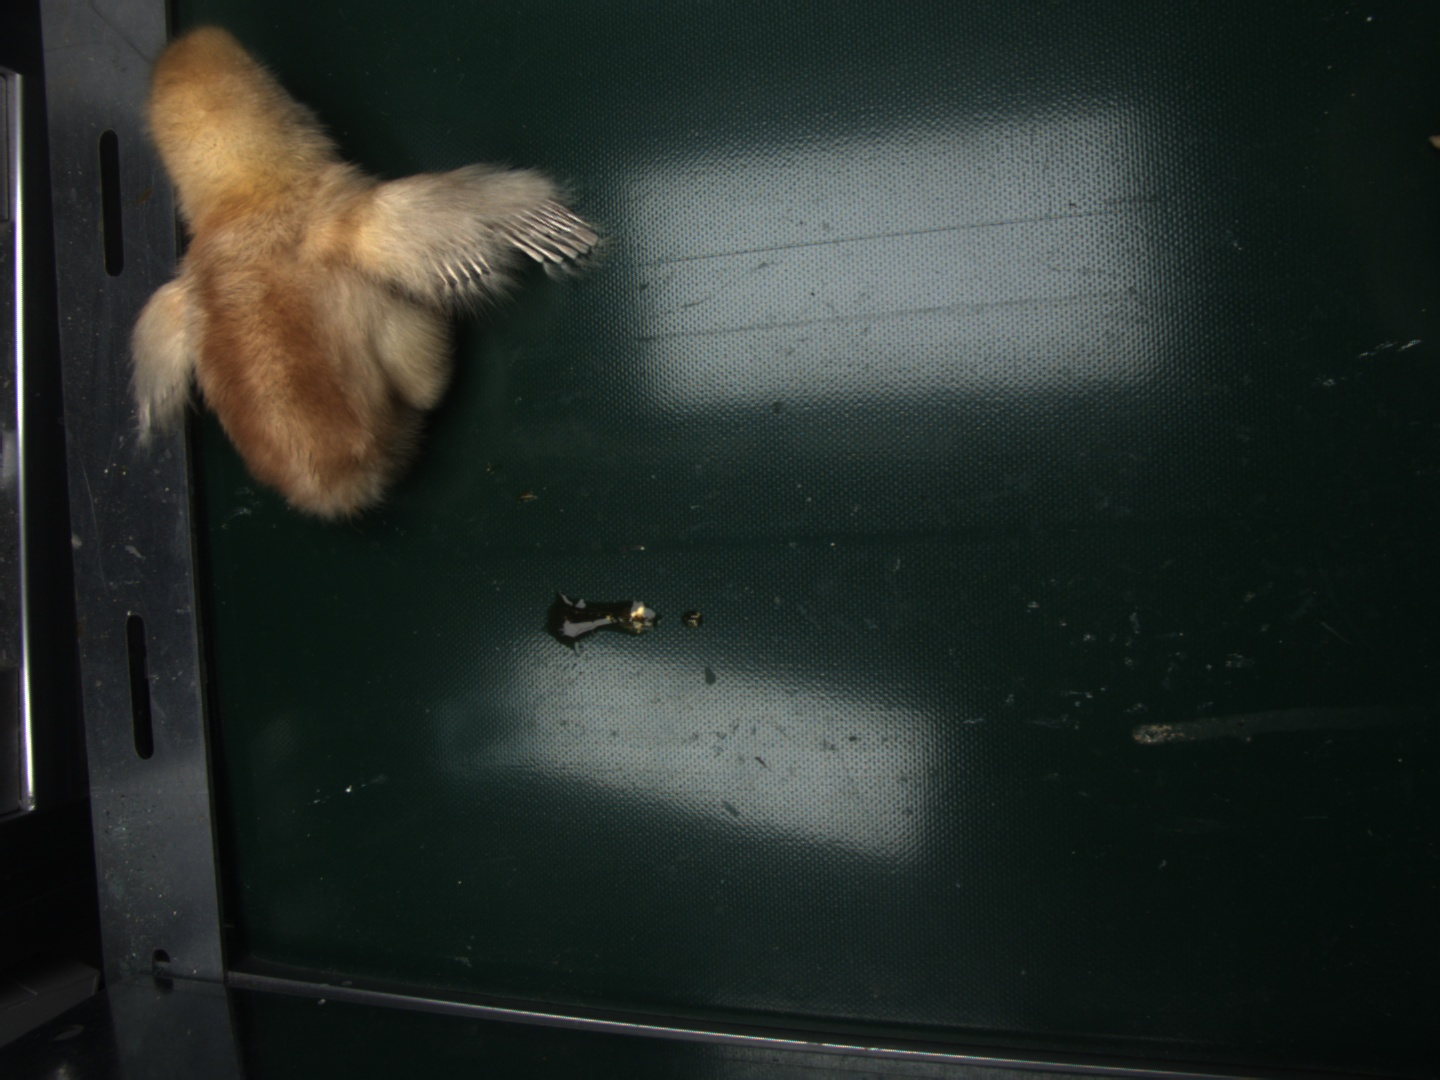female: (509, 197, 600, 271)
